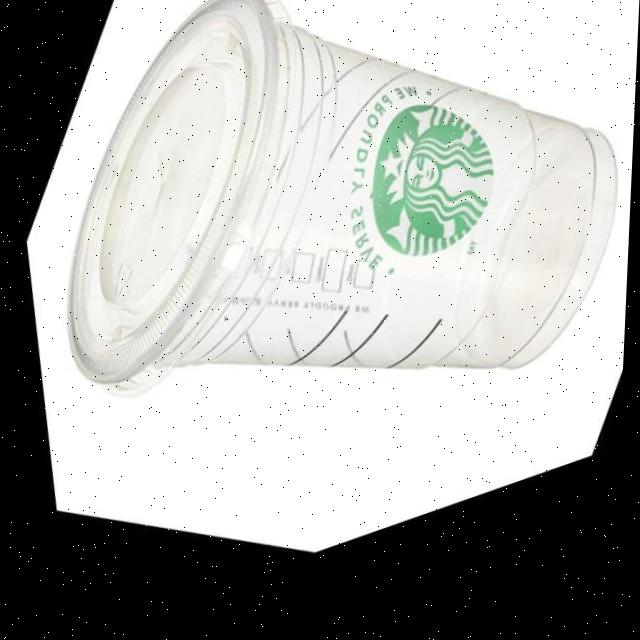cup: (73, 0, 640, 399)
